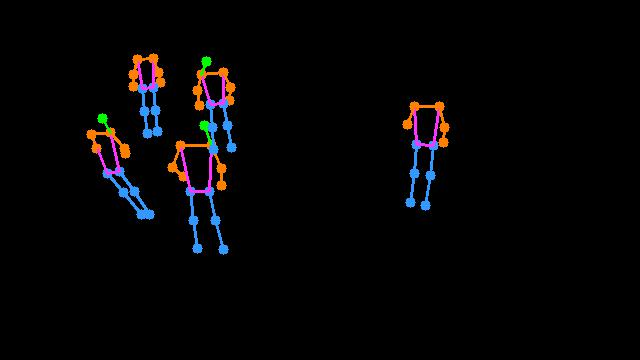normal: (79, 23, 248, 266)
